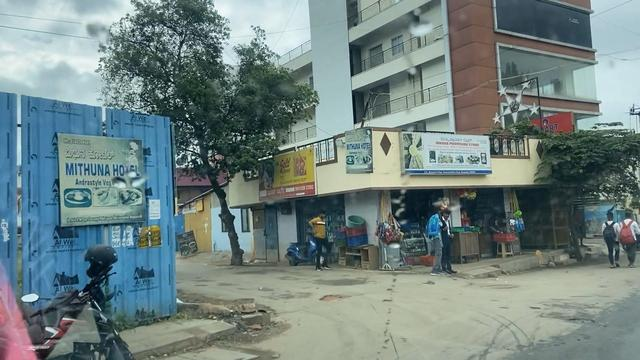RoadDamages: (226, 288, 288, 342), (160, 344, 272, 360)
